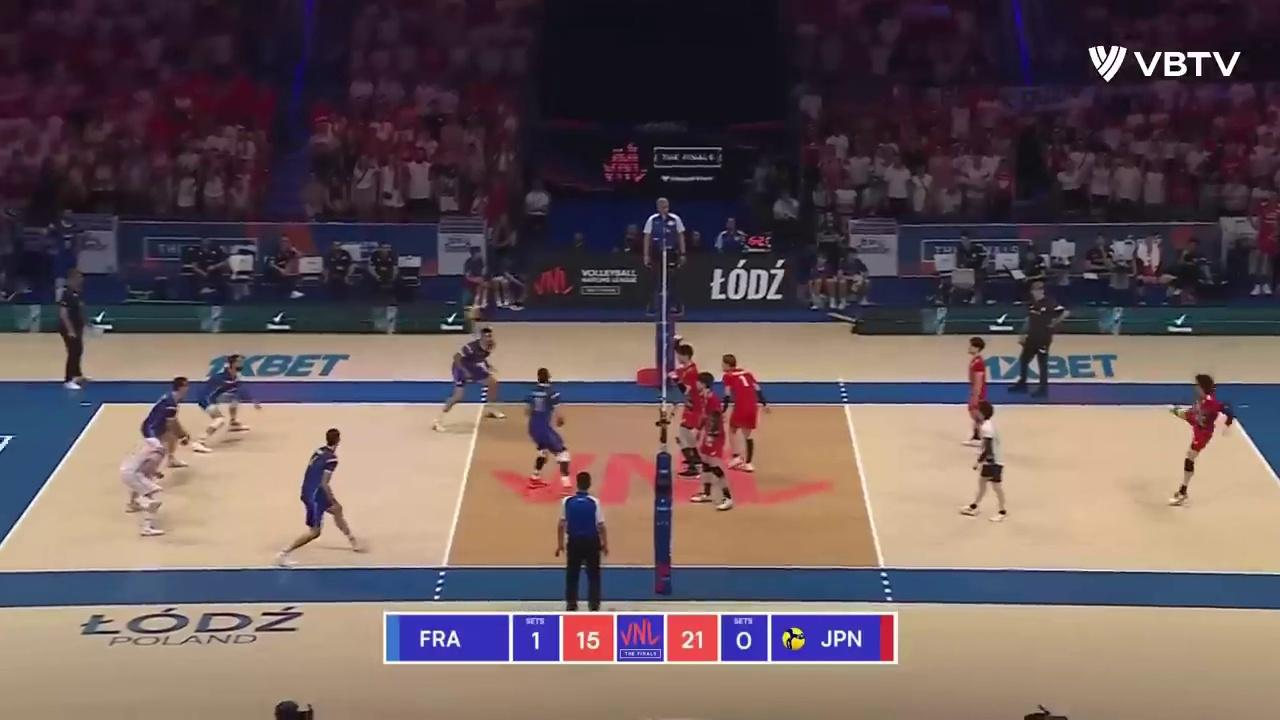ball: (466, 307, 482, 320)
